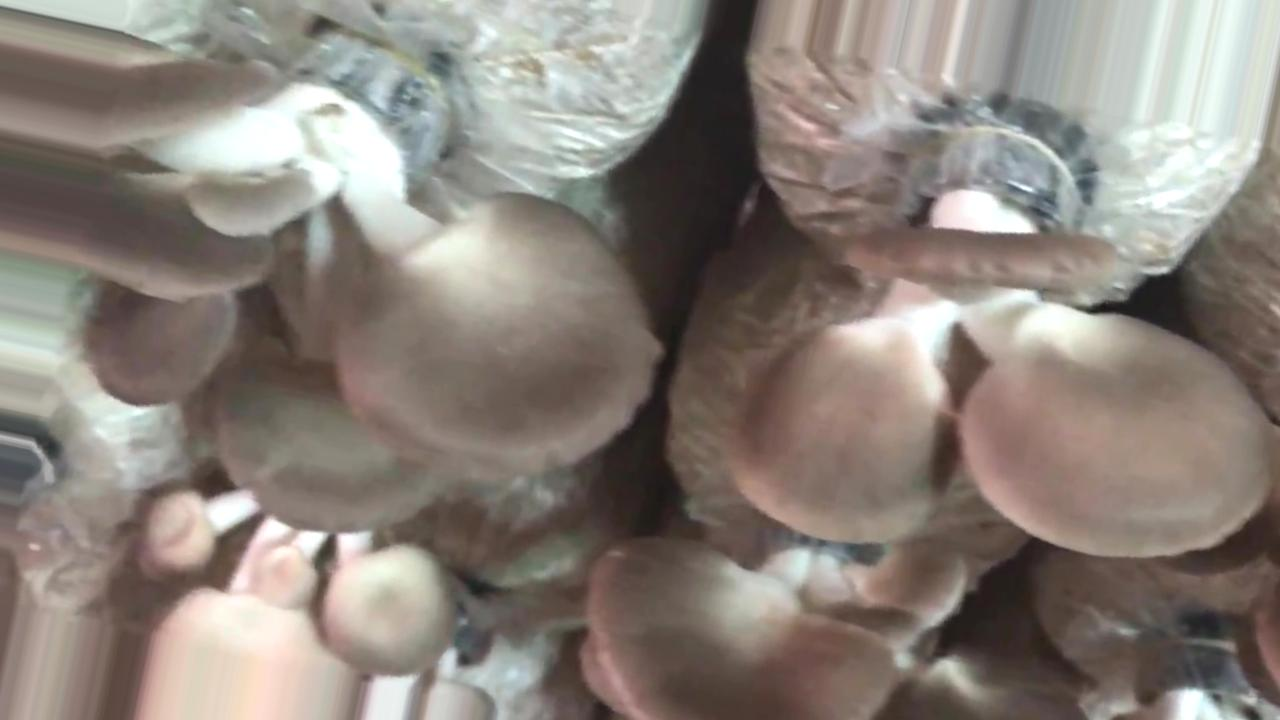nam: (1, 6, 653, 530), (727, 128, 1277, 560), (134, 487, 493, 720), (588, 513, 895, 720)
